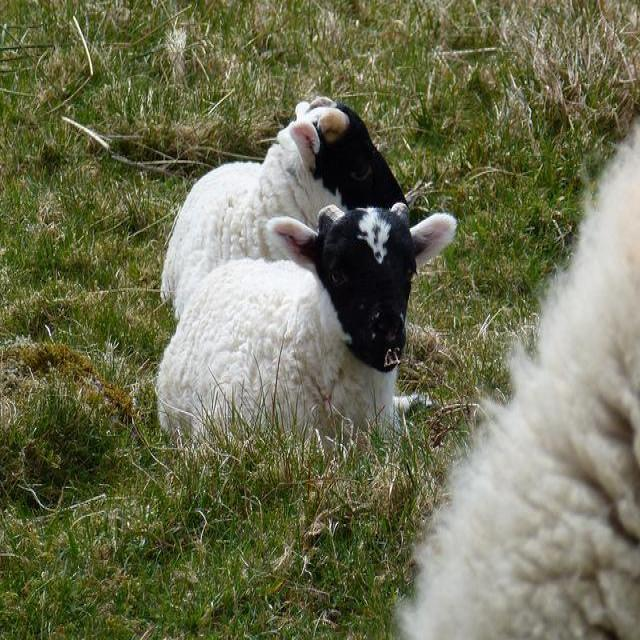Sheep: (402, 121, 639, 632), (157, 213, 461, 443), (159, 96, 407, 323)
